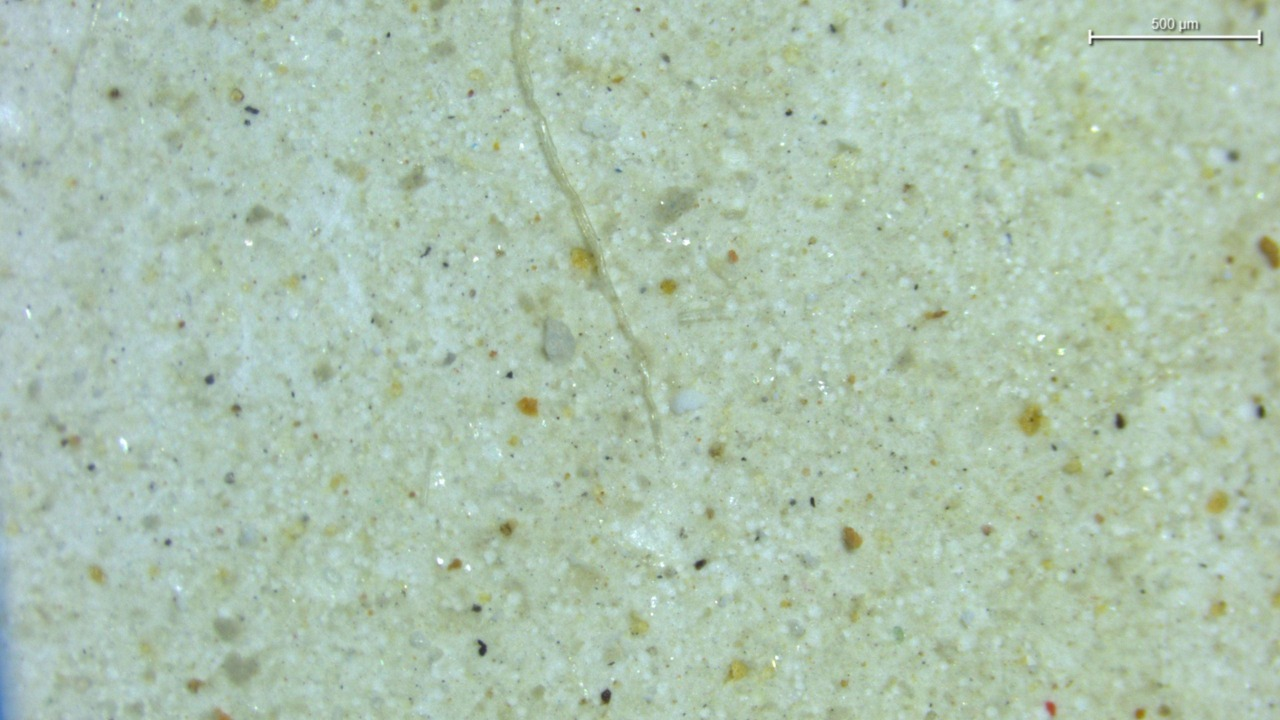microplastic_fragment: (544, 319, 576, 363), (670, 388, 706, 414)
